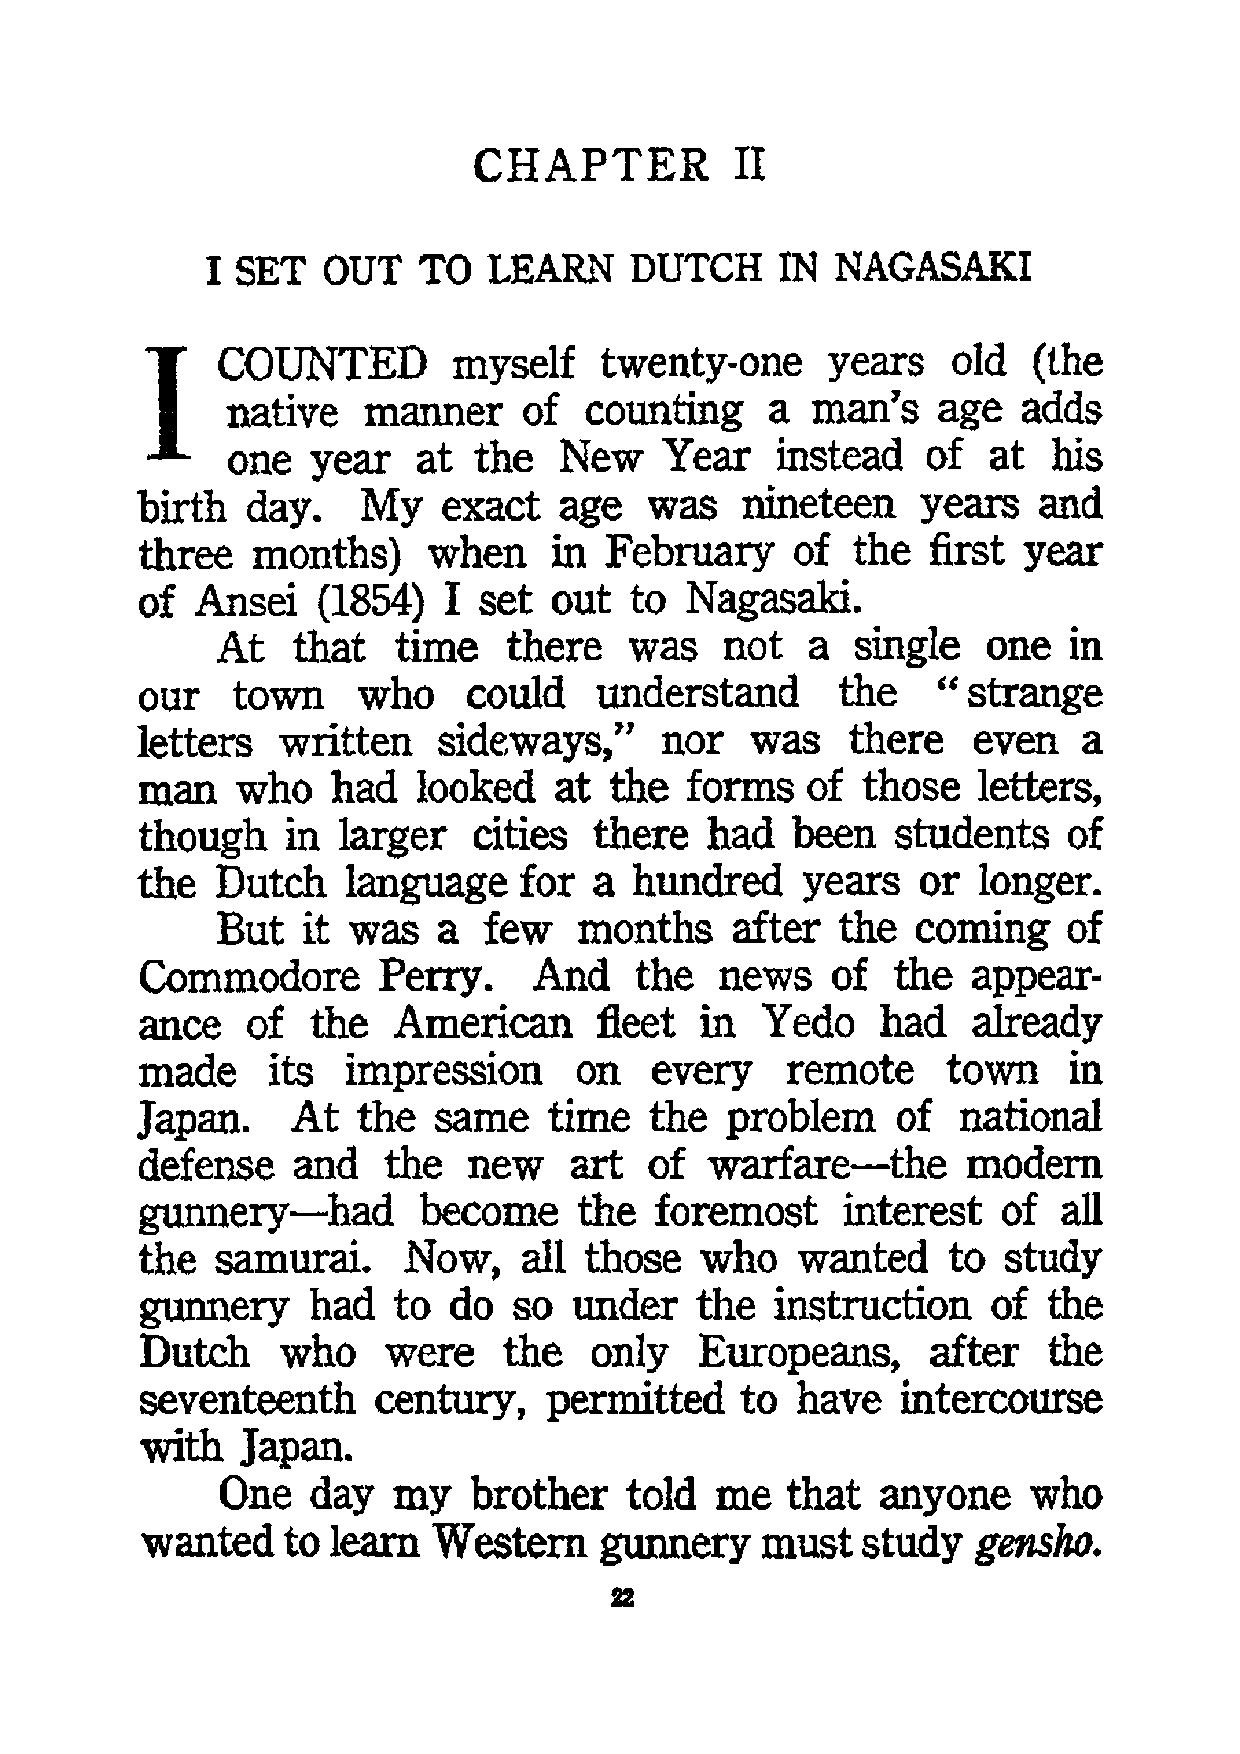chapter: (199, 140, 1035, 289)
content: (130, 337, 1107, 1567)
content_pagenumber: (607, 1580, 637, 1610)
